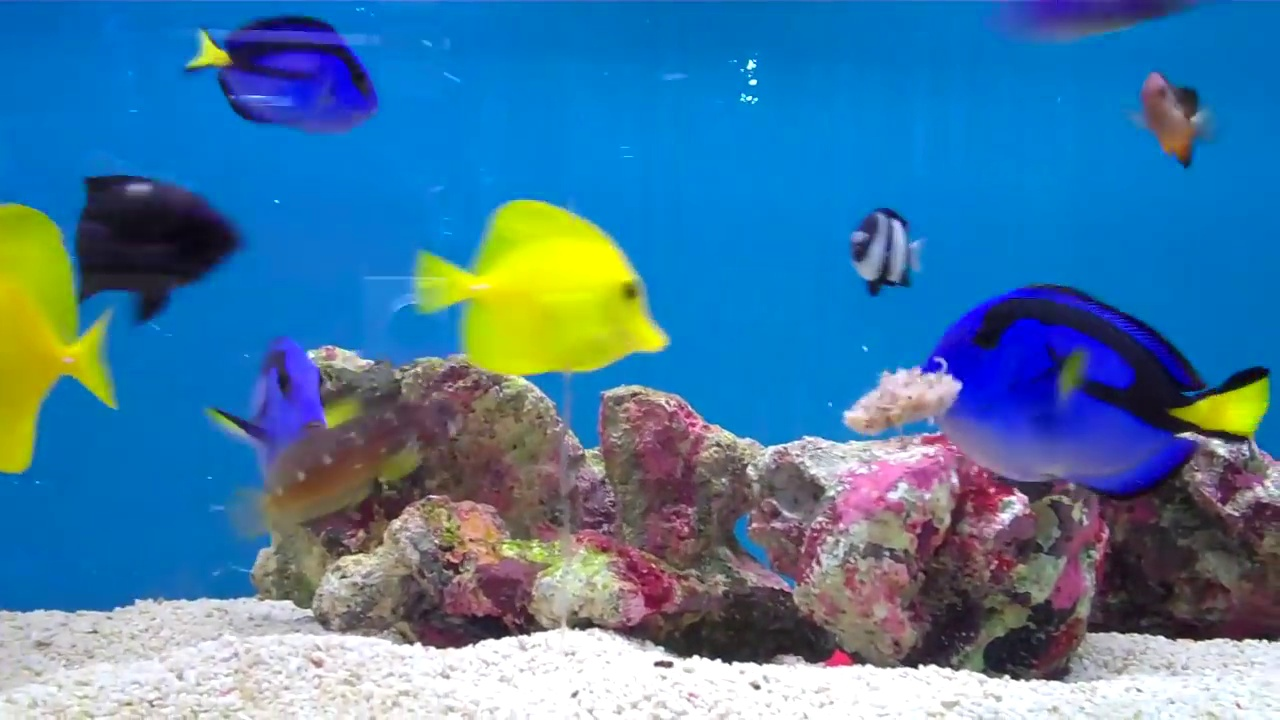blue tang surgeonfish: (902, 267, 1271, 522), (182, 0, 392, 139)
saddle butterfly fish: (383, 177, 685, 399)
